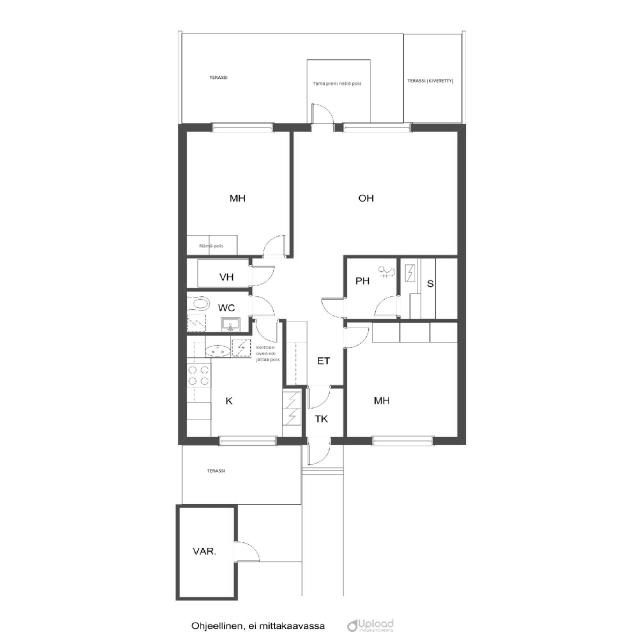door: (307, 100, 337, 136), (316, 292, 351, 322), (250, 306, 285, 336), (259, 231, 291, 262), (231, 538, 265, 567), (341, 322, 374, 351), (304, 438, 334, 468), (247, 292, 279, 320), (246, 261, 278, 288), (254, 318, 284, 346), (371, 293, 403, 318), (304, 382, 332, 410)
window: (203, 115, 282, 137), (340, 120, 419, 137), (367, 436, 438, 450), (214, 437, 280, 450)
zone: (290, 126, 462, 258), (183, 126, 293, 257), (344, 319, 462, 440), (180, 331, 300, 444), (178, 506, 236, 600), (399, 258, 462, 322), (344, 255, 399, 321), (182, 288, 252, 334), (179, 257, 252, 289)
